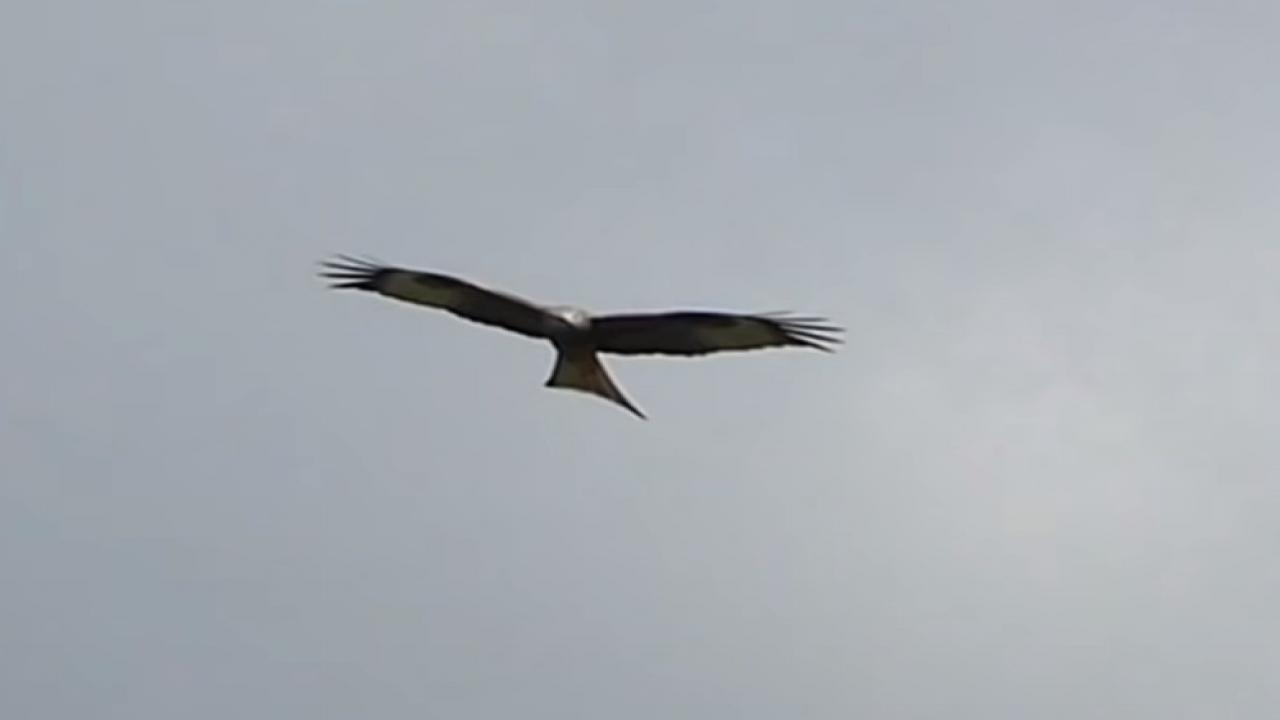Bird: (310, 244, 855, 428)
